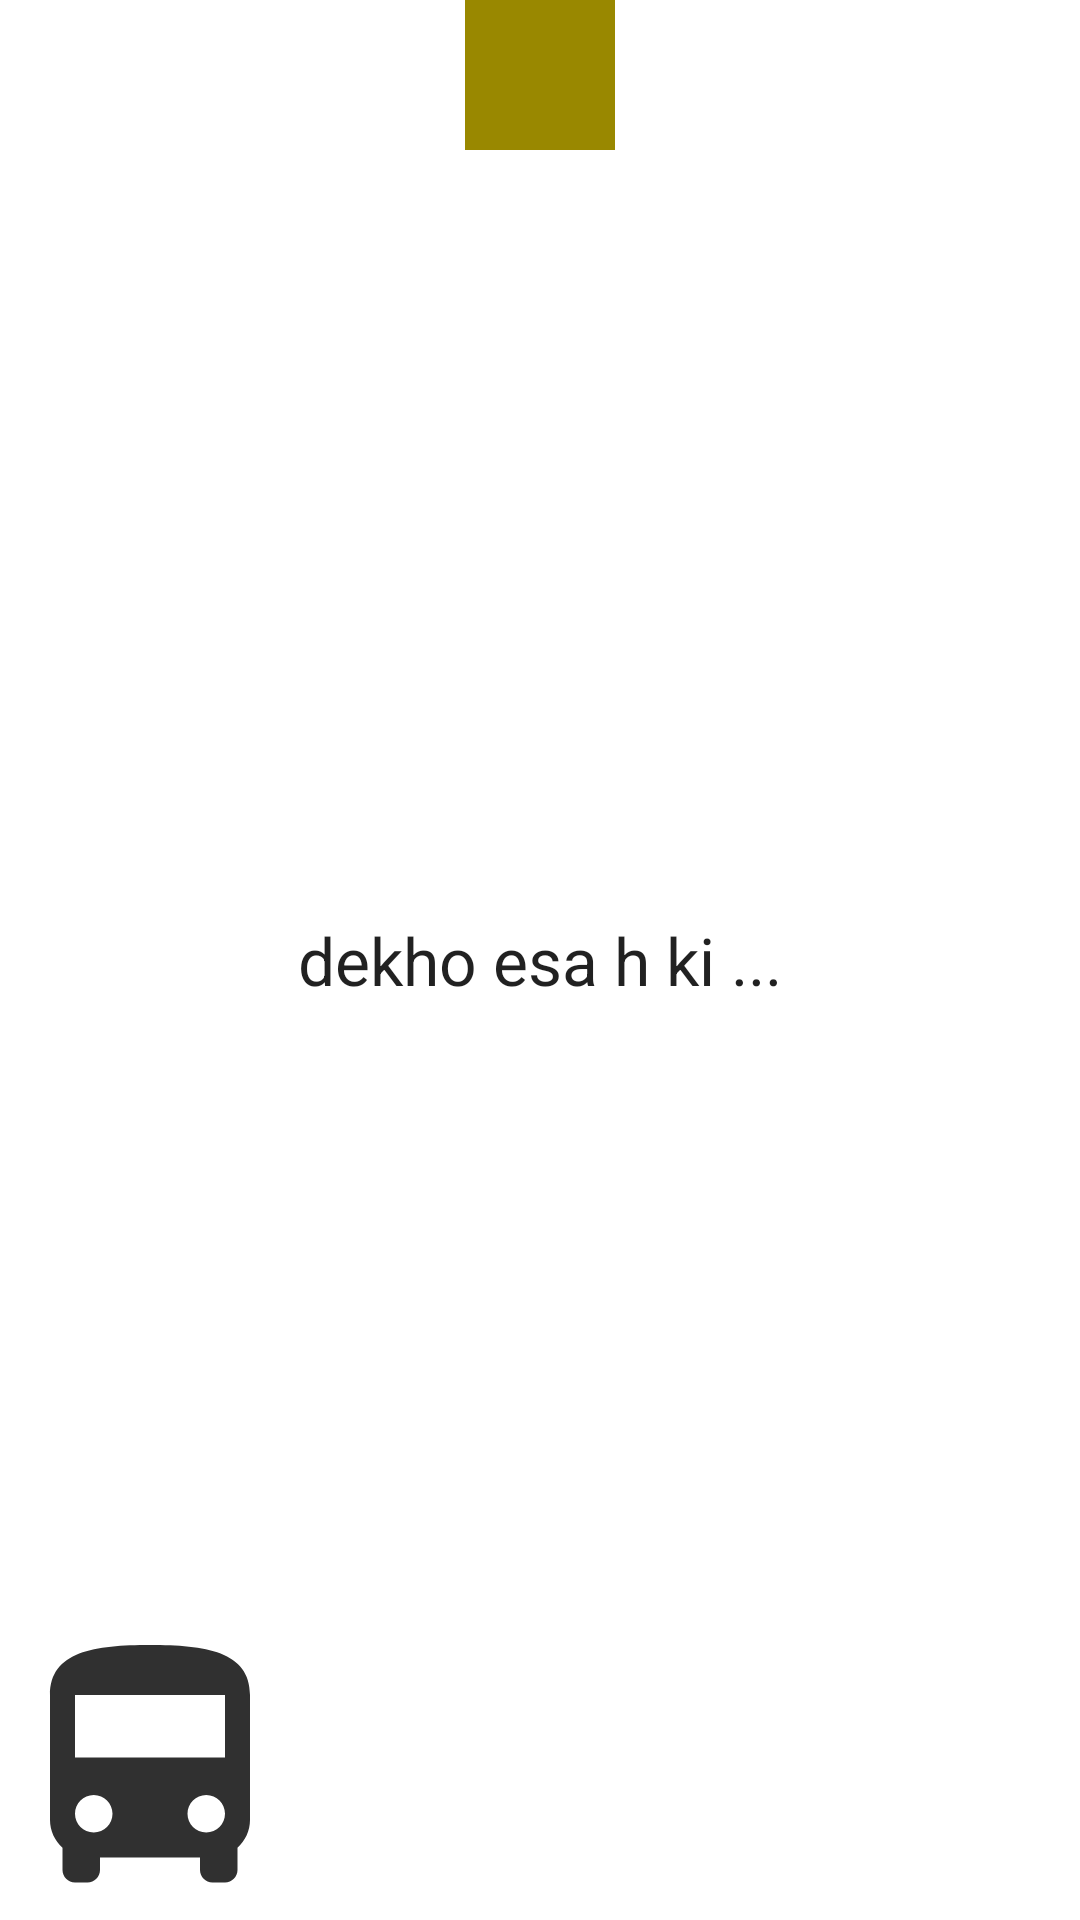

Point at icon controls on the screen. Image size 1080px×1920px, points as (x=x, y=y).
directions bus: (x=150, y=1764)
